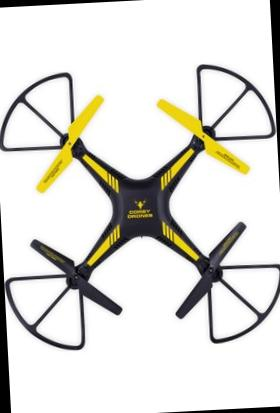drone: (0, 56, 280, 364)
